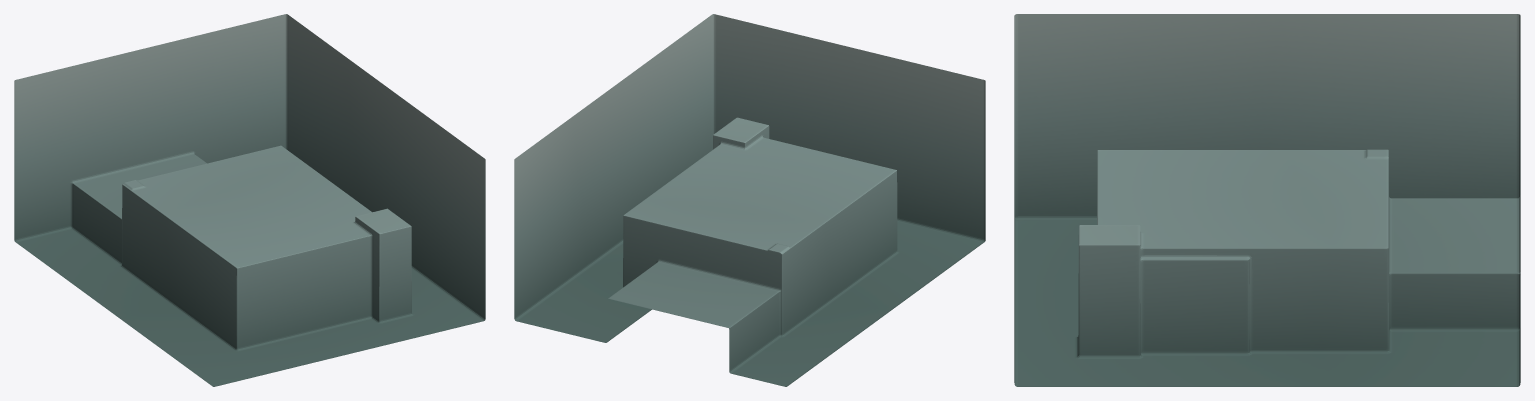
File: drowned_nave.glb
The picture shows the model from 3 angles, left to right: view 1: azimuth 30°, elevation 25°; view 2: azimuth 150°, elevation 25°; view 3: azimuth 270°, elevation 25°; orthographic projection. The views are drawn at different scales.
Parts seen in each view (by area): view 1: shell_crossing, shell_porch, shell_crypt, shell_tower_stair, shell_nave_high, shell_chapter, shell_aisle; view 2: shell_porch, shell_crypt, shell_crossing, shell_tower_stair, shell_chapter, shell_nave_high, shell_aisle; view 3: shell_tower_stair, shell_crypt, shell_crossing, shell_porch, shell_nave_high, shell_chapter, shell_aisle.
Part boxes in pixels (left/top/right/bottom): shell_crossing: left=33, top=14, right=331, bottom=255; shell_porch: left=295, top=99, right=485, bottom=367; shell_crypt: left=131, top=202, right=316, bottom=386; shell_tower_stair: left=14, top=63, right=184, bottom=326; shell_nave_high: left=288, top=72, right=407, bottom=334; shell_chapter: left=181, top=37, right=352, bottom=210; shell_aisle: left=231, top=57, right=376, bottom=212; shell_porch: left=629, top=14, right=942, bottom=222; shell_crypt: left=749, top=70, right=985, bottom=304; shell_crossing: left=514, top=136, right=768, bottom=382; shell_tower_stair: left=739, top=218, right=900, bottom=386; shell_chapter: left=545, top=116, right=806, bottom=293; shell_nave_high: left=593, top=75, right=841, bottom=255; shell_aisle: left=572, top=101, right=765, bottom=275; shell_tower_stair: left=1197, top=14, right=1520, bottom=214; shell_crypt: left=1014, top=14, right=1280, bottom=297; shell_crossing: left=1365, top=176, right=1520, bottom=386; shell_porch: left=1014, top=198, right=1207, bottom=386; shell_nave_high: left=1097, top=183, right=1286, bottom=386; shell_chapter: left=1272, top=160, right=1400, bottom=386; shell_aisle: left=1218, top=188, right=1350, bottom=386.
Size of the model in its own units: 130 by 73.78 by 165.
